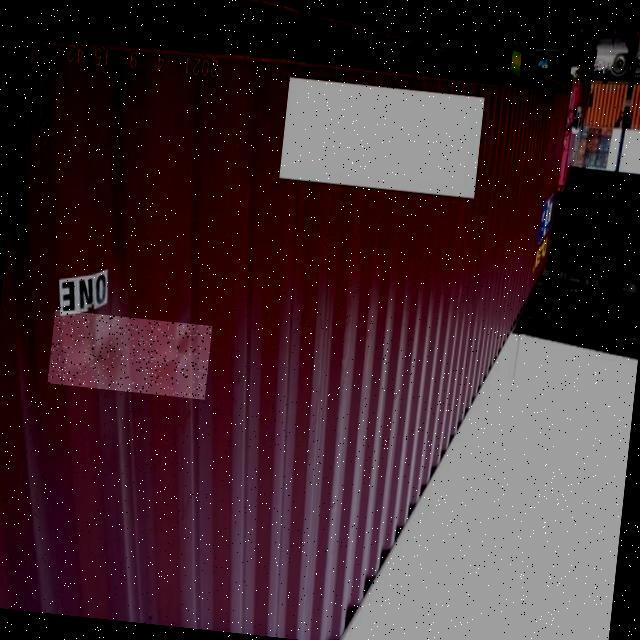Minor-Dent: (47, 310, 212, 400)
